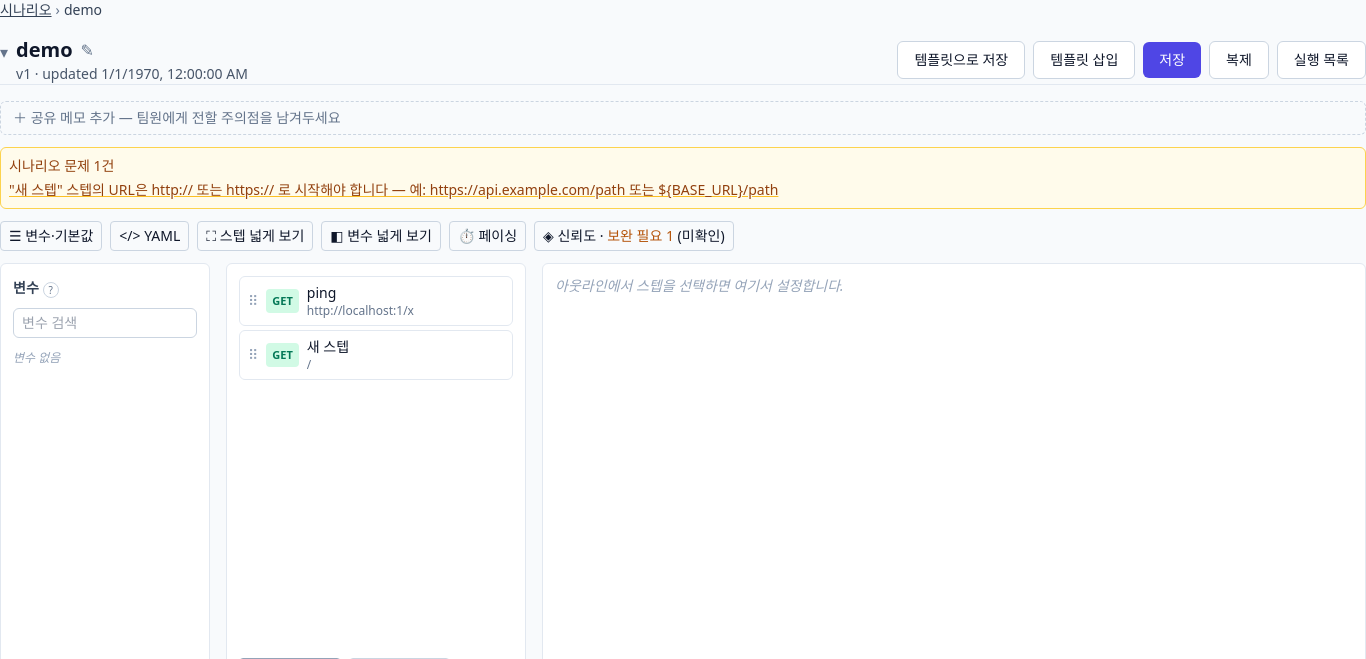
ScenarioEditPage 이탈 가드 › 저장 실패 → 잔류·다이얼로그 닫힘·에러 Callout 노출 (R6)
expect the heading "demo" is shown: met, box [16, 36, 72, 64]
expect the button "저장" is enabled: met, box [1143, 42, 1201, 78]
Click the button "실행 목록": x=1321, y=60 [1277, 41, 1365, 79]
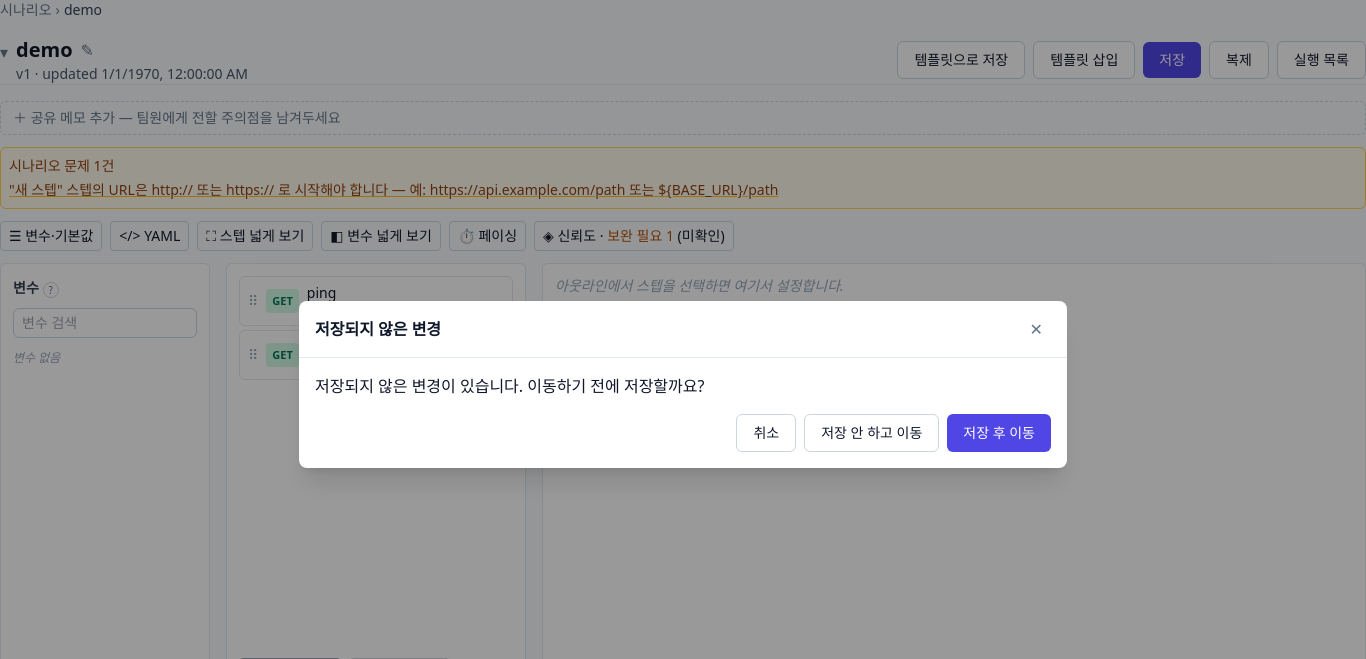
Click the button "저장 후 이동": x=999, y=432 [947, 414, 1051, 452]
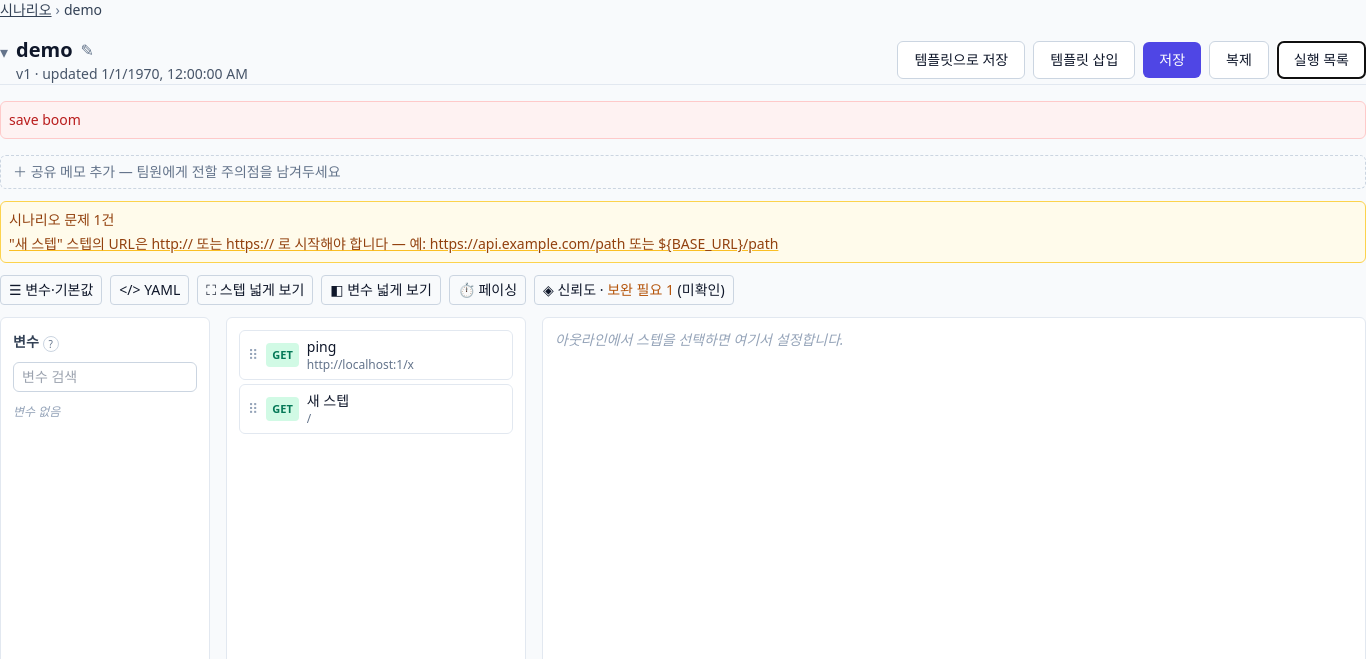
expect the heading "저장되지 않은 변경" is gone: met
expect the text "save boom" is shown: met, box [0, 101, 1365, 139]
